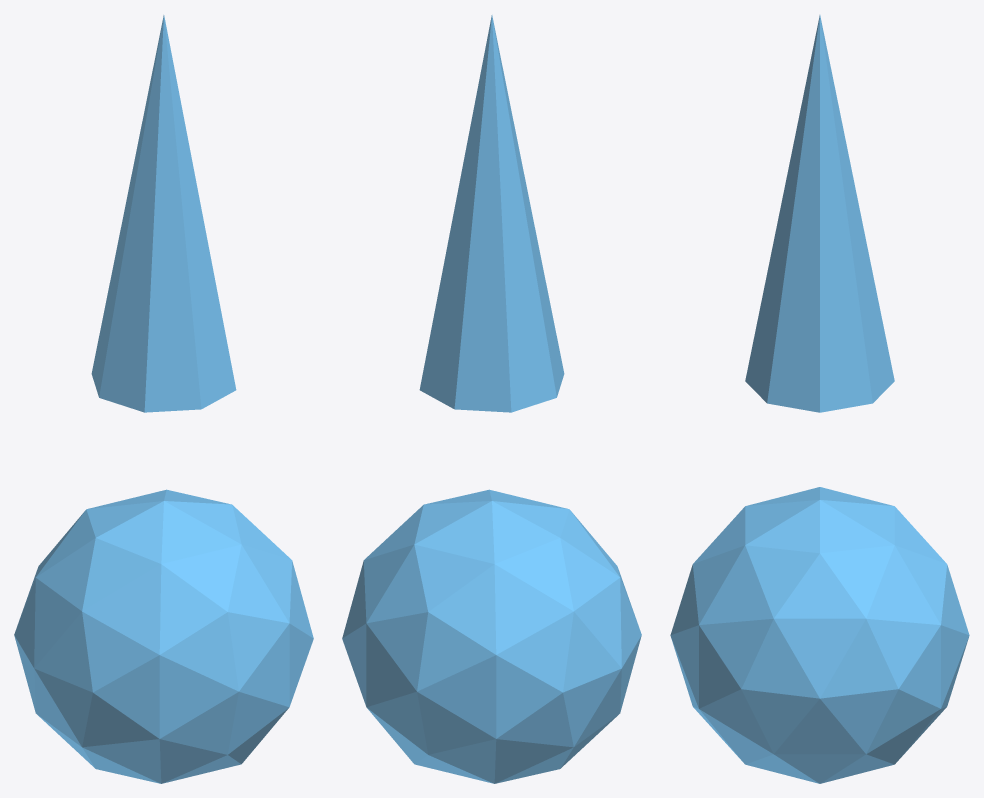
Rendered from ice_shard_projectile.glb.
3 views of the same model, side by side, from view 1: azimuth 30°, elevation 25°; view 2: azimuth 150°, elevation 25°; view 3: azimuth 270°, elevation 25° (orthographic).
Visible parts, largest first — view 1: projectile_core, trail; view 2: projectile_core, trail; view 3: projectile_core, trail.
Part boxes in pixels (left/top/right/bottom): projectile_core: left=14, top=489, right=313, bottom=783; trail: left=91, top=15, right=236, bottom=412; projectile_core: left=342, top=489, right=641, bottom=783; trail: left=419, top=15, right=564, bottom=412; projectile_core: left=670, top=487, right=969, bottom=783; trail: left=745, top=15, right=894, bottom=412.
Size of the model in its own units: 0.48 by 1.34 by 0.48.
